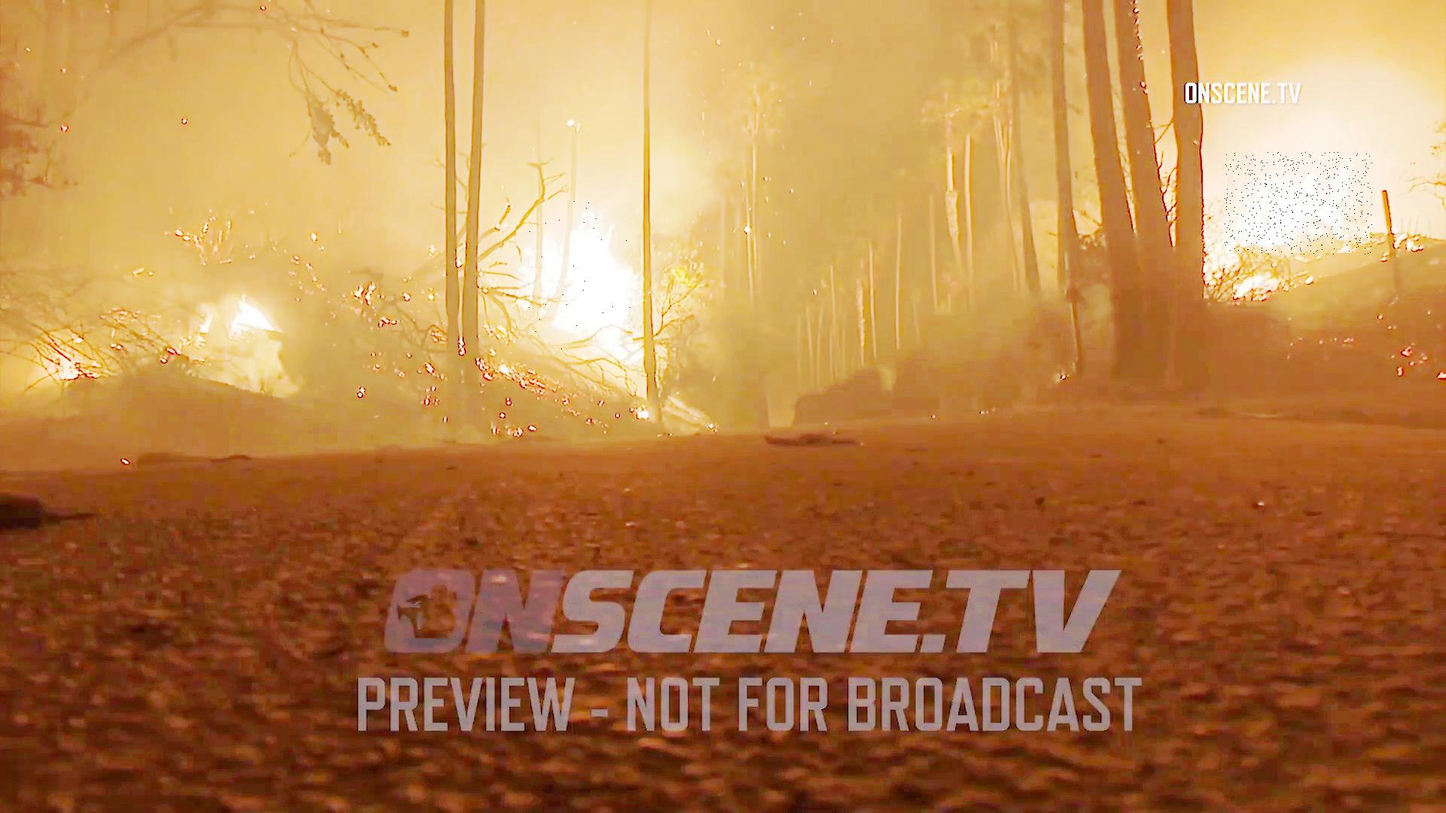fire: (516, 200, 635, 350), (1224, 153, 1373, 255)
